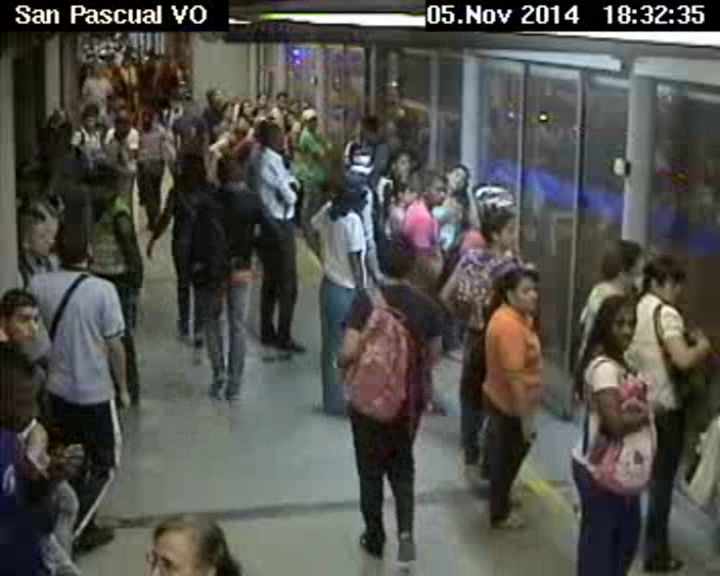person: (148, 506, 248, 576), (1, 348, 57, 433), (589, 286, 642, 367), (596, 223, 646, 293), (1, 287, 52, 343), (639, 250, 690, 305), (1, 211, 57, 260), (495, 264, 544, 318), (477, 201, 522, 251), (57, 227, 96, 274), (324, 174, 367, 214), (211, 151, 252, 190), (84, 167, 135, 198), (381, 232, 413, 279), (170, 155, 210, 186), (381, 146, 415, 179), (387, 172, 413, 208), (441, 158, 467, 191), (422, 175, 446, 208), (359, 110, 379, 147), (258, 127, 283, 152), (202, 86, 223, 114), (60, 120, 77, 148), (113, 108, 132, 132), (301, 109, 319, 132), (82, 108, 97, 132), (180, 94, 196, 116), (218, 100, 235, 120), (140, 107, 154, 130), (238, 96, 253, 117), (272, 90, 287, 110), (256, 93, 268, 109), (285, 112, 297, 125), (90, 68, 102, 78)
